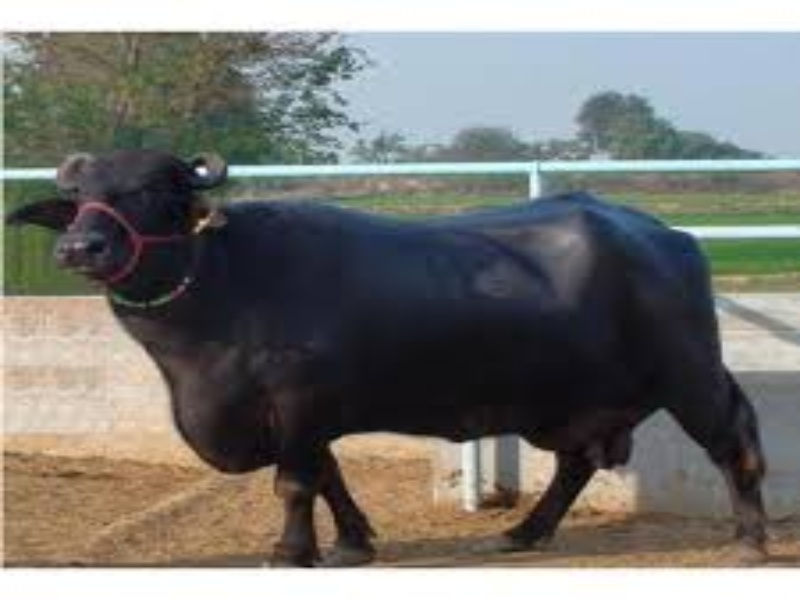buffalo: (16, 132, 778, 549)
